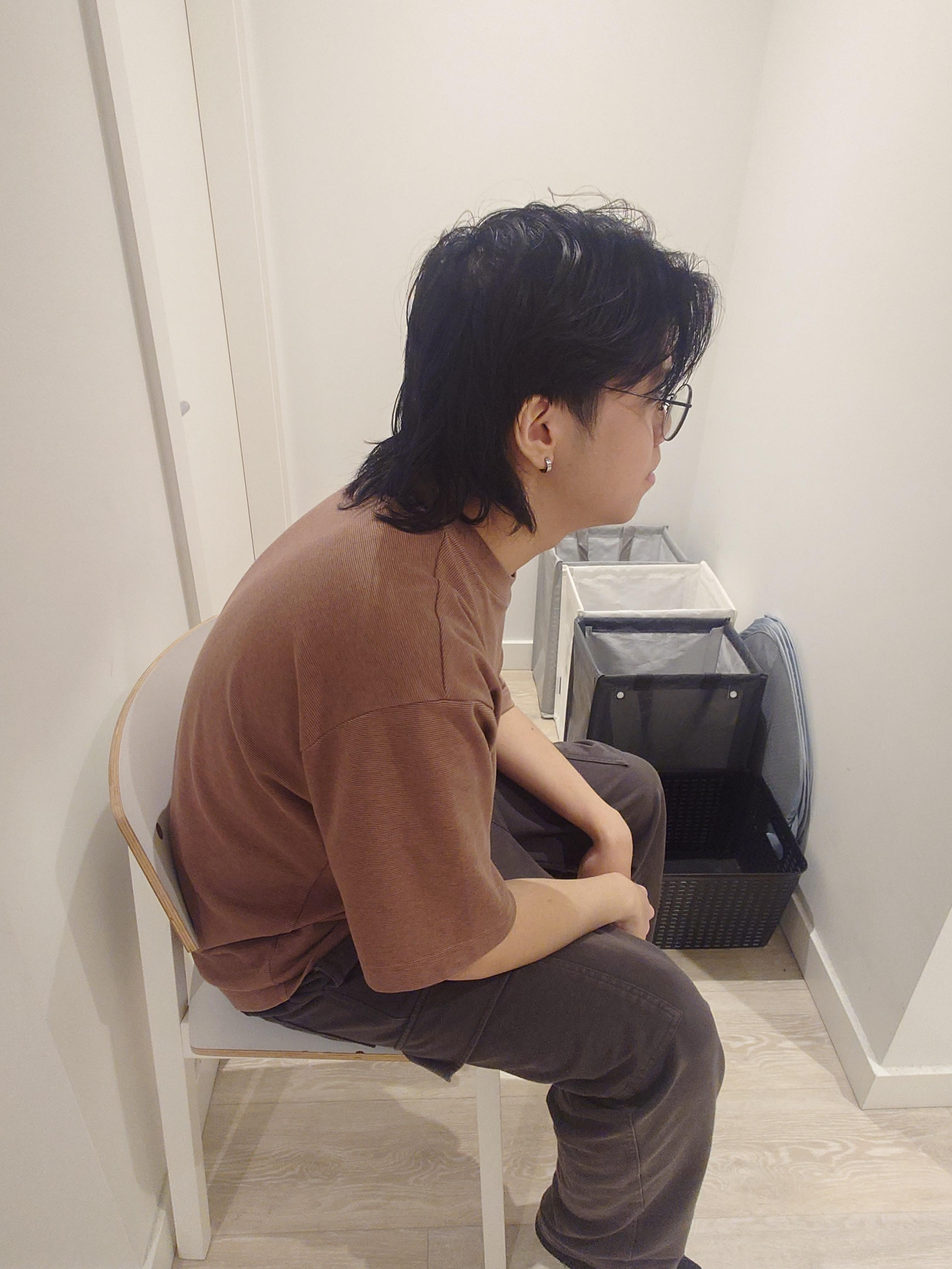BadPosture: (156, 200, 723, 1267)
